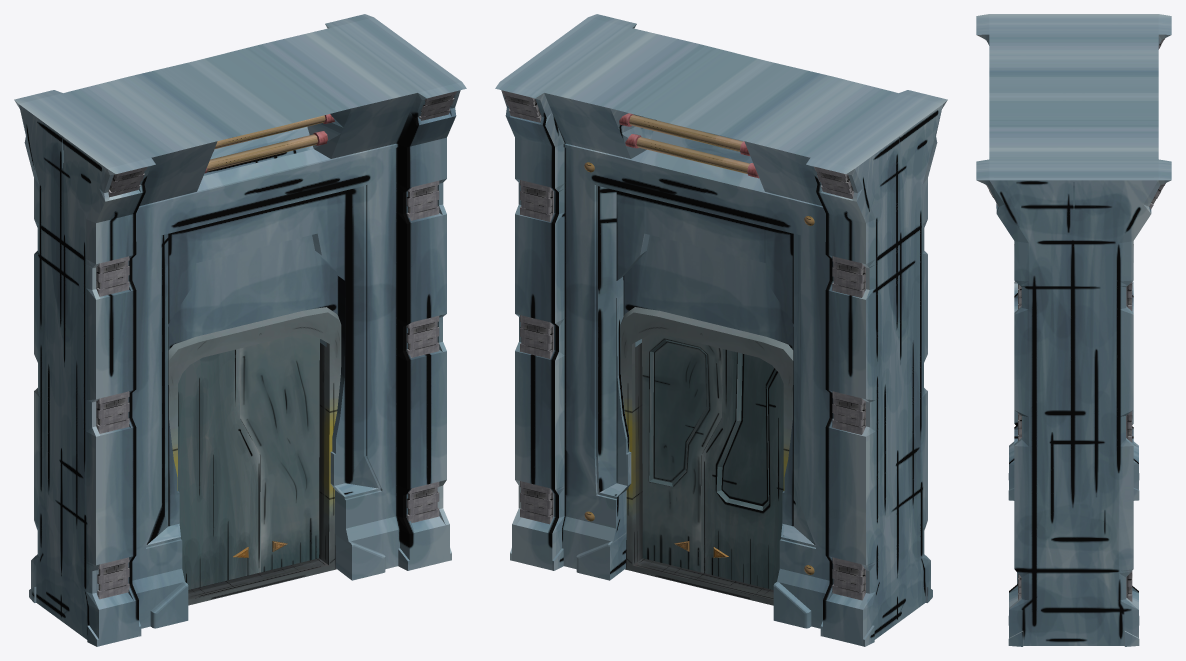
The model's file is DoorWalLower.FBX.
The picture shows the model from 3 angles, left to right: view 1: azimuth 30°, elevation 25°; view 2: azimuth 150°, elevation 25°; view 3: azimuth 270°, elevation 25°; orthographic projection. The views are drawn at different scales.
Visible parts, largest first — view 1: Plane007, Door Part 1, Door Part 2, Frame, Cylinder013, Box020, Box024, Box019, Box018, Box023, Box022, Cylinder011 (+2 smaller); view 2: Plane007, Door Part 1, Door Part 2, Frame, Cylinder007, Cylinder001, Box008, Box028, Box027, Box007, Box006, Box026 (+2 smaller); view 3: Plane007.
Part boxes in pixels (x1,y1,x2,y2): Plane007: [14, 14, 466, 646]; Door Part 1: [178, 348, 260, 589]; Door Part 2: [239, 333, 319, 572]; Frame: [168, 307, 341, 605]; Cylinder013: [207, 134, 317, 171]; Box020: [96, 391, 129, 433]; Box024: [406, 316, 439, 357]; Box019: [97, 557, 129, 599]; Box018: [96, 256, 129, 296]; Box023: [406, 482, 439, 522]; Box022: [406, 180, 439, 220]; Cylinder011: [214, 115, 325, 149]; Plane007: [495, 14, 947, 646]; Door Part 1: [701, 349, 783, 589]; Door Part 2: [642, 333, 722, 572]; Frame: [620, 307, 793, 605]; Cylinder007: [636, 137, 749, 173]; Cylinder001: [629, 114, 742, 151]; Box008: [520, 315, 553, 358]; Box028: [832, 391, 865, 434]; Box027: [832, 557, 865, 600]; Box007: [520, 481, 553, 524]; Box006: [520, 180, 553, 221]; Box026: [832, 256, 865, 297]; Plane007: [976, 14, 1171, 646].
Size of the model in its own units: 129 by 63.32 by 167.
Materials: 9 (9 with a texture image).
